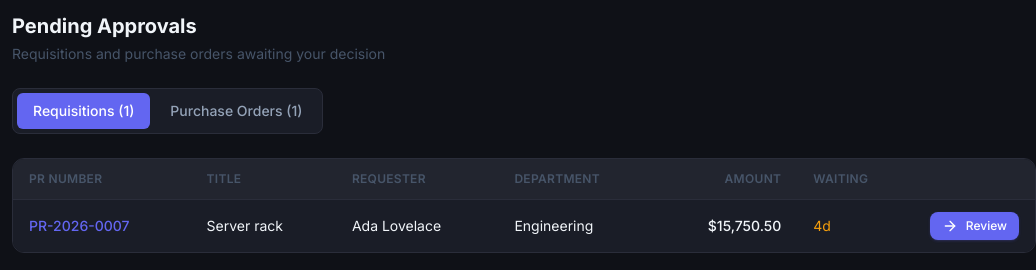
Test: ApprovalQueuePage › switches to purchase orders awaiting final approval
Check: the text "PR-2026-0007" is shown, box x1=29 y1=217 x2=130 y2=234
Click the tab "Purchase Orders (1)": x=236, y=111 x1=154 y1=93 x2=318 y2=129
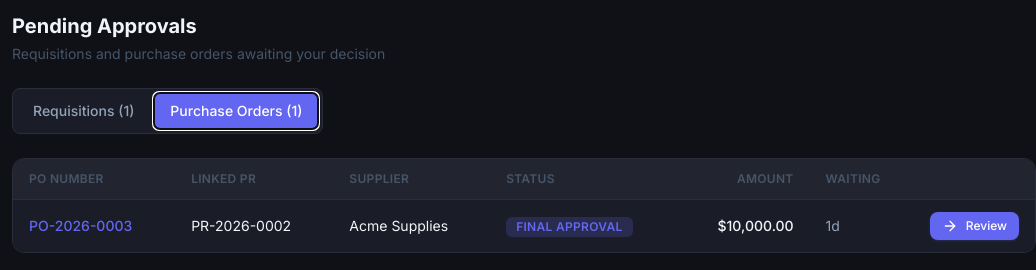
Check: the text "PO-2026-0003" is shown, box x1=29 y1=217 x2=132 y2=234
Check: the text "Acme Supplies" is shown, box x1=333 y1=200 x2=490 y2=252
Check: the text "$10,000.00" is shown, box x1=718 y1=217 x2=794 y2=234
